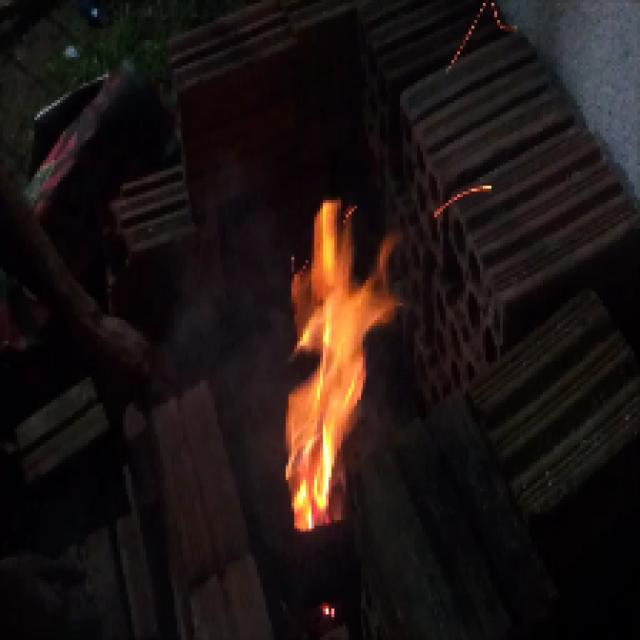Fire: (286, 188, 403, 534)
Smoke: (160, 180, 286, 469)
